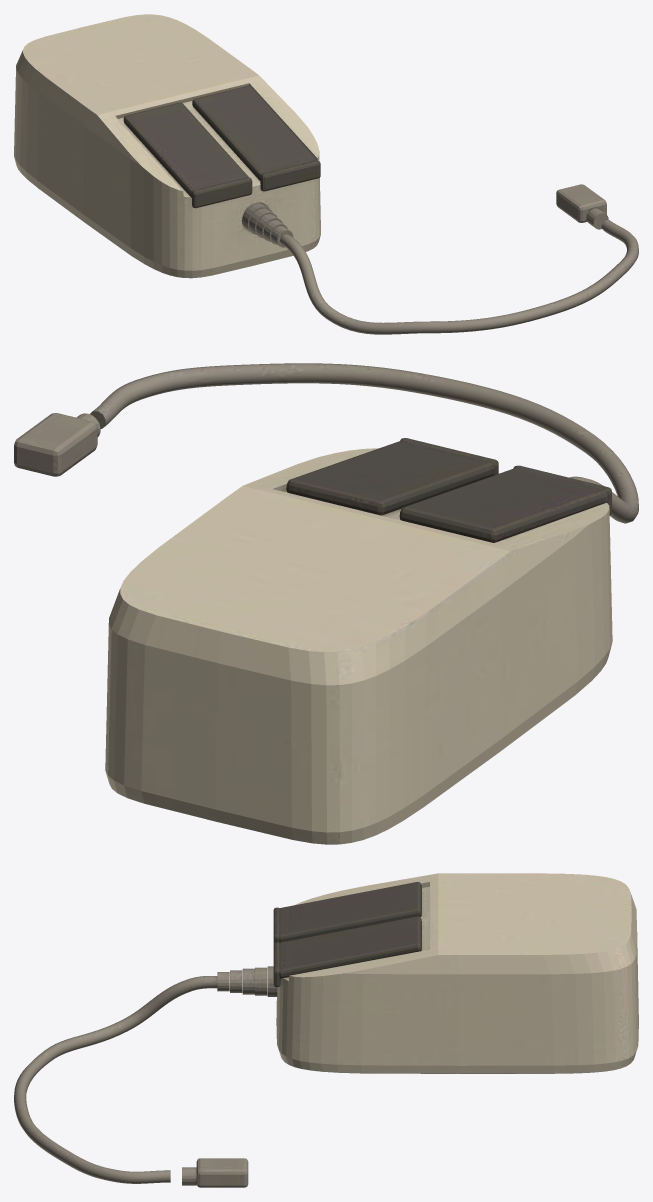
The model's file is mouse-a.glb.
3 views of the same model, one above another, from view 1: azimuth 30°, elevation 25°; view 2: azimuth 150°, elevation 25°; view 3: azimuth 270°, elevation 25° (orthographic). The views are drawn at different scales.
Parts seen in each view (by area): view 1: so-baked; view 2: so-baked; view 3: so-baked.
Boxes of the visible parts, bbox=[...] form: so-baked: bbox=[14, 14, 638, 334]; so-baked: bbox=[14, 363, 638, 844]; so-baked: bbox=[14, 873, 638, 1187].
Size of the model in its own units: 0.1468 by 0.0422 by 0.193.
1 material, 1 textured.
